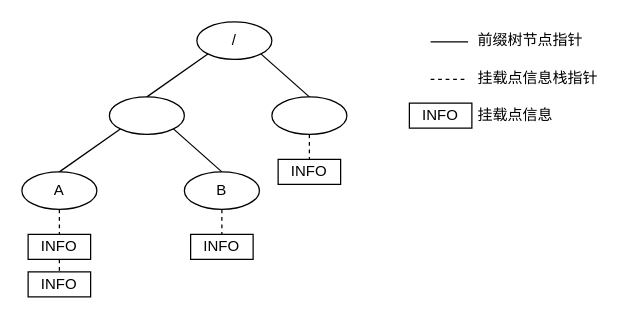
Some shapes in this 623 by 319 pixel diagram are drawn without their labels. Each missing label, with the box of its shape:
ext: (271, 96, 347, 134)
fat: (108, 96, 184, 134)
